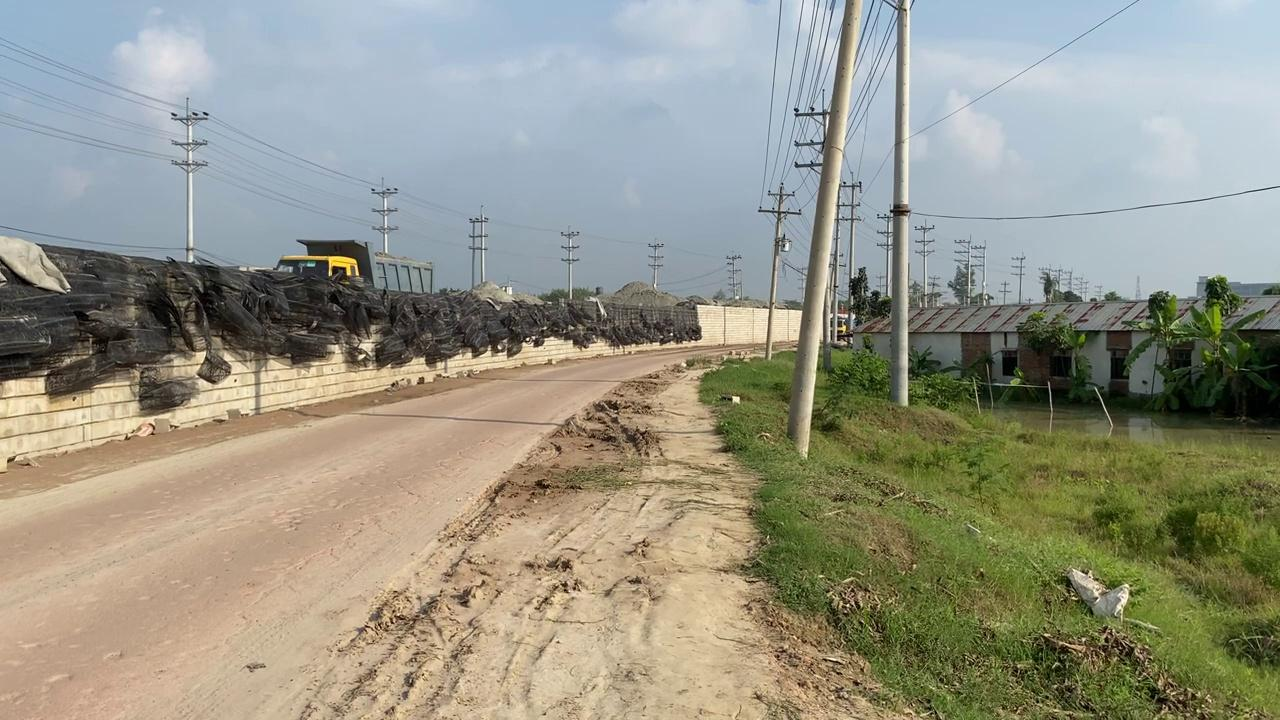Garbage: (0, 234, 702, 398)
Pole: (786, 0, 863, 459), (888, 1, 911, 406)
Tree: (273, 238, 434, 294)
